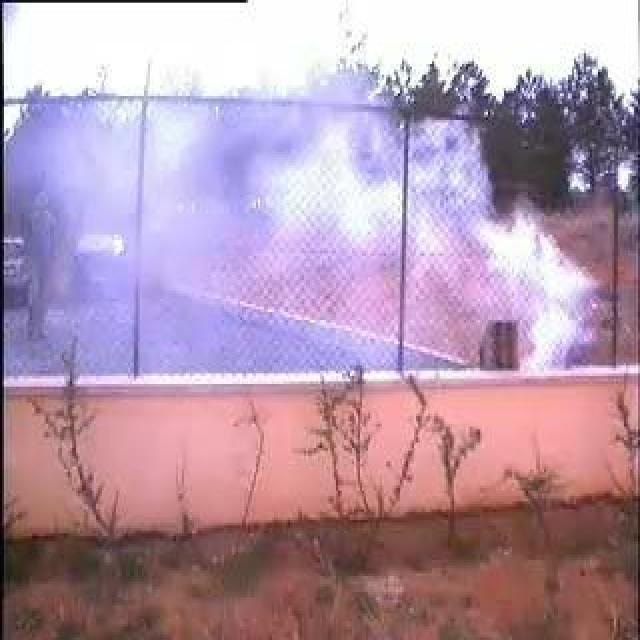Smoke: (64, 102, 582, 374)
